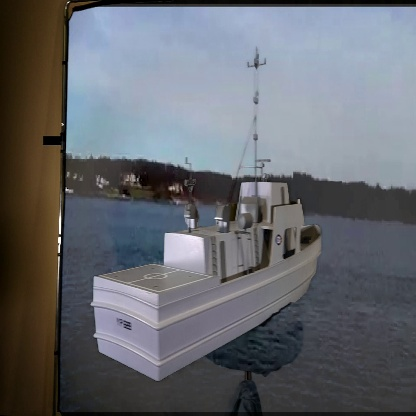YP689: (90, 48, 324, 383)
